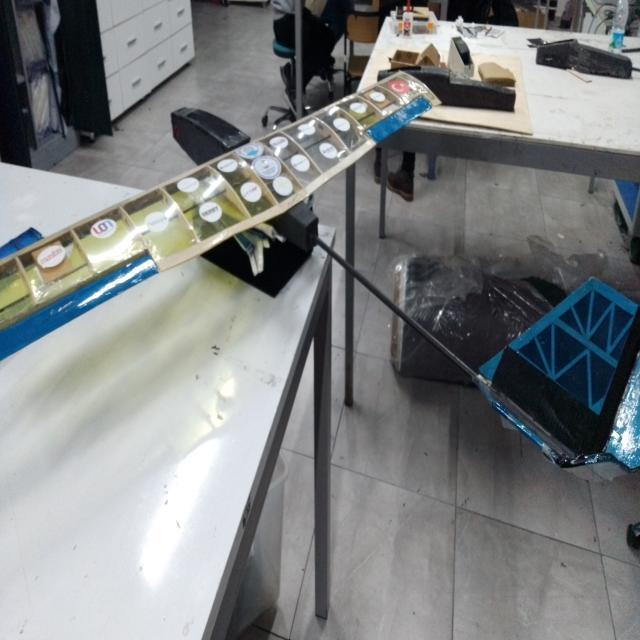UAV: (93, 68, 617, 520)
